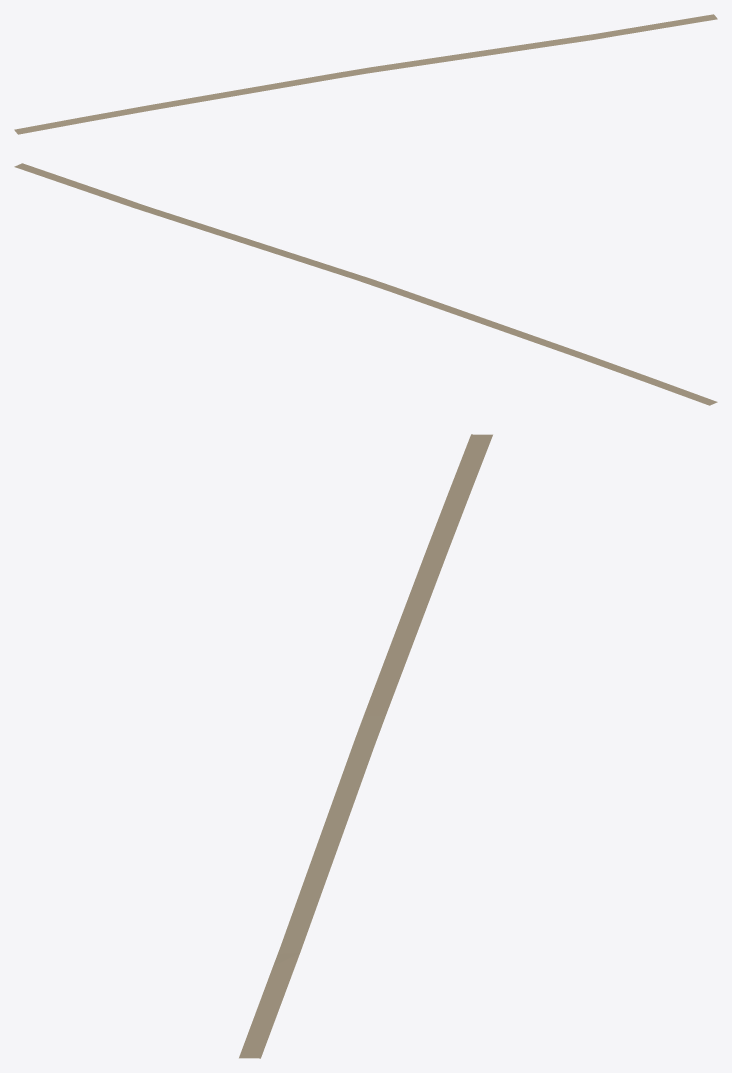
Rendered from farm_25_13_track.glb.
3 renders of one model, top to bottom at view 1: azimuth 30°, elevation 25°; view 2: azimuth 150°, elevation 25°; view 3: azimuth 270°, elevation 25°, orthographic. The views are drawn at different scales.
Parts seen in each view (by area): view 1: geometry_0; view 2: geometry_0; view 3: geometry_0.
Boxes of the visible parts, bbox=[...] form: geometry_0: bbox=[14, 14, 717, 134]; geometry_0: bbox=[14, 163, 717, 405]; geometry_0: bbox=[239, 434, 492, 1058].
Bounding box in the file's own units: 218 × 1.58 × 37.29.
